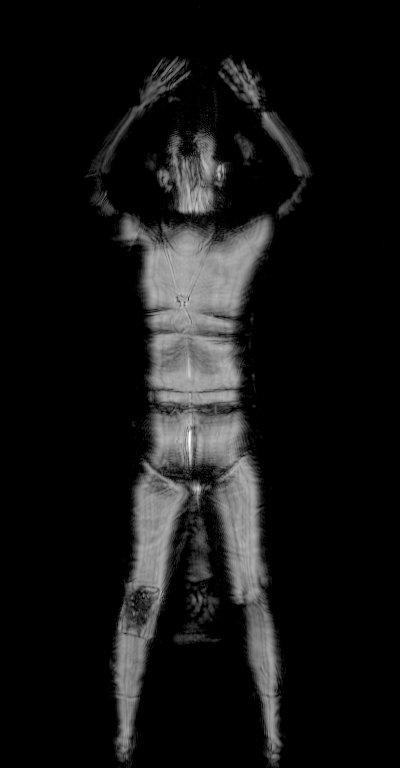head: (151, 120, 234, 198)
others: (112, 579, 166, 644)
person: (86, 55, 309, 768)
